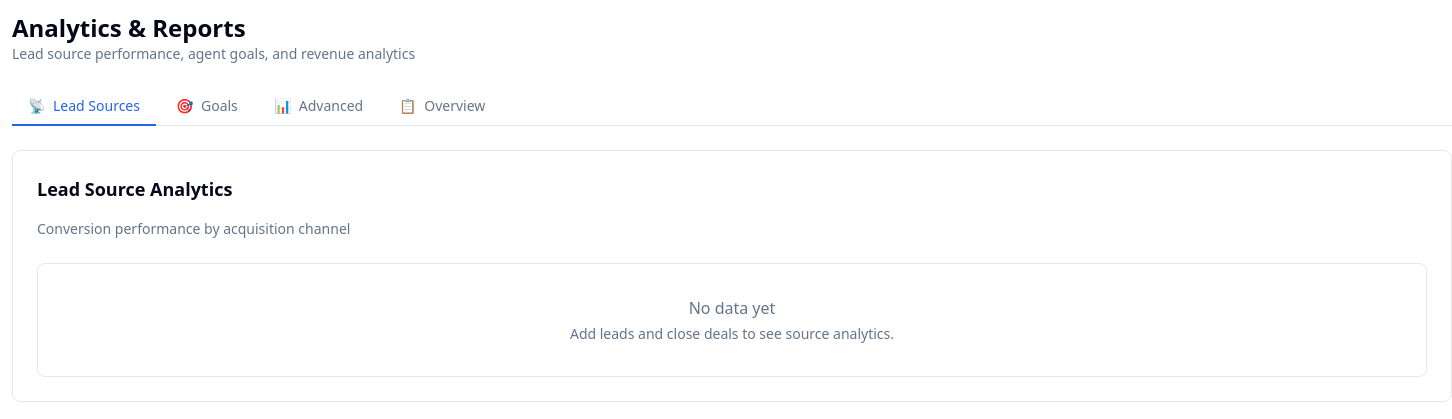
Test: AnalyticsPage › shows advanced tab content when active
The width and height of the screenshot is (1452, 419).
Click the text "Advanced" at (331, 106), box [299,96,363,116]
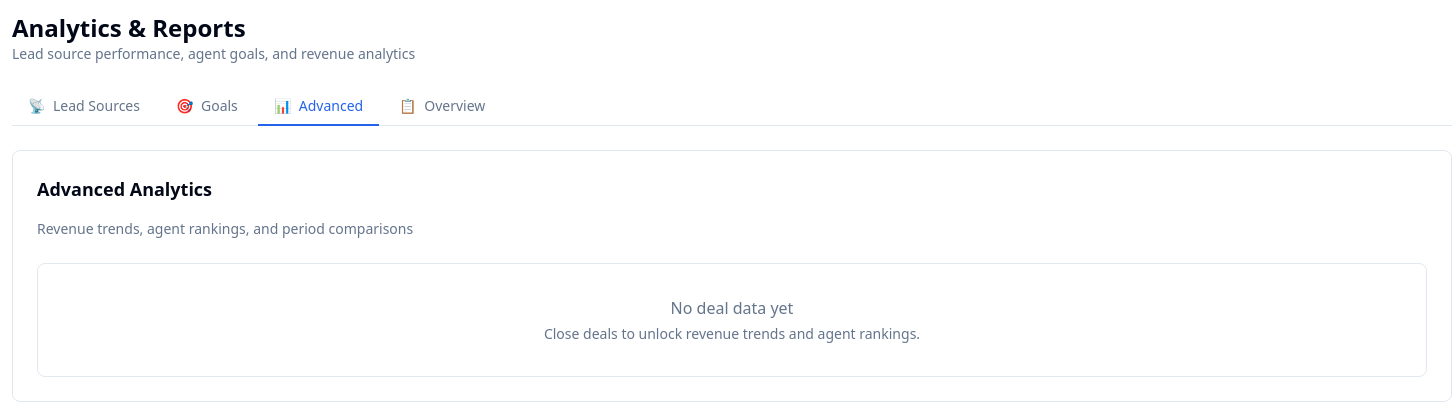
Check: the heading "Advanced Analytics" is shown, box [37,177,212,201]
